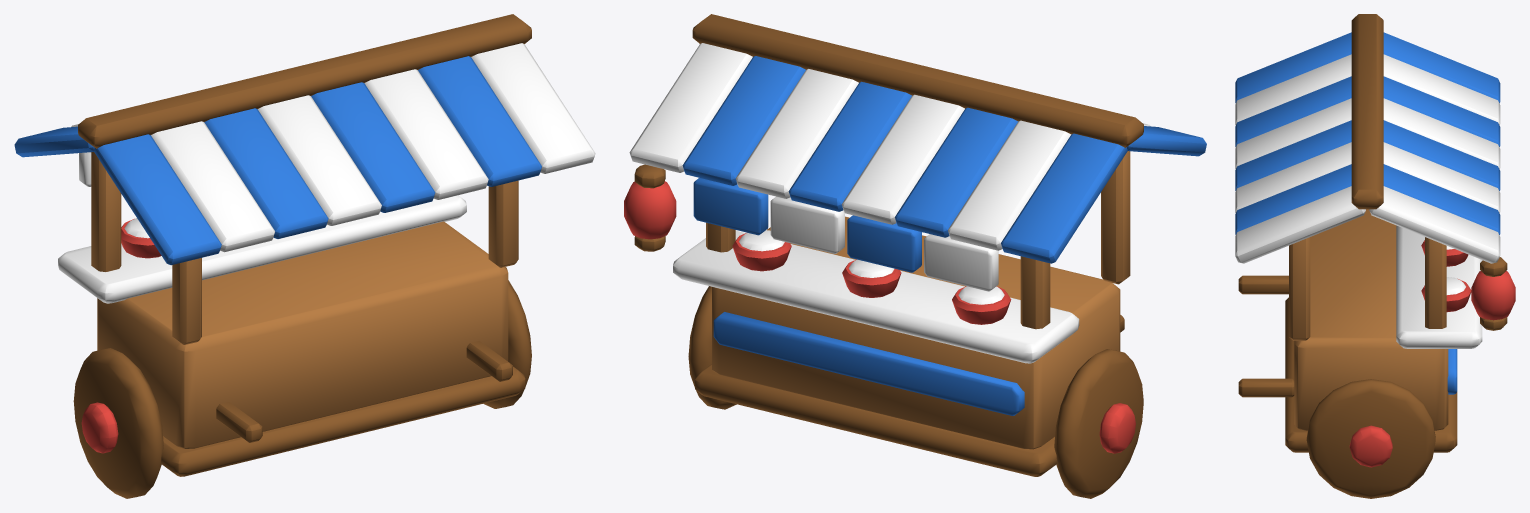
The model's file is Hub_FoodCart.glb.
The picture shows the model from 3 angles, left to right: view 1: azimuth 30°, elevation 25°; view 2: azimuth 150°, elevation 25°; view 3: azimuth 270°, elevation 25°; orthographic projection. The views are drawn at different scales.
Visible parts, largest first — view 1: Wood_B5793F, White_FFFFFF, Dark_8A5A2B, Blue_2F7DE1, Red_E0453C; view 2: White_FFFFFF, Blue_2F7DE1, Dark_8A5A2B, Wood_B5793F, Red_E0453C; view 3: White_FFFFFF, Wood_B5793F, Dark_8A5A2B, Blue_2F7DE1, Red_E0453C.
Part boxes in pixels (x1,y1,x2,y2): Wood_B5793F: (91,152,518,448); White_FFFFFF: (58,43,595,303); Dark_8A5A2B: (73,14,531,498); Blue_2F7DE1: (14,56,541,265); Red_E0453C: (81,218,161,453); White_FFFFFF: (629,43,1150,363); Blue_2F7DE1: (682,56,1206,415); Dark_8A5A2B: (634,14,1143,498); Wood_B5793F: (706,151,1130,449); Red_E0453C: (624,181,1135,453); White_FFFFFF: (1235,54,1500,348); Wood_B5793F: (1289,209,1448,430); Dark_8A5A2B: (1238,14,1507,498); Blue_2F7DE1: (1235,32,1500,394); Red_E0453C: (1349,240,1515,467).
Bounding box in the file's own units: 12 × 9.85 × 7.83.
